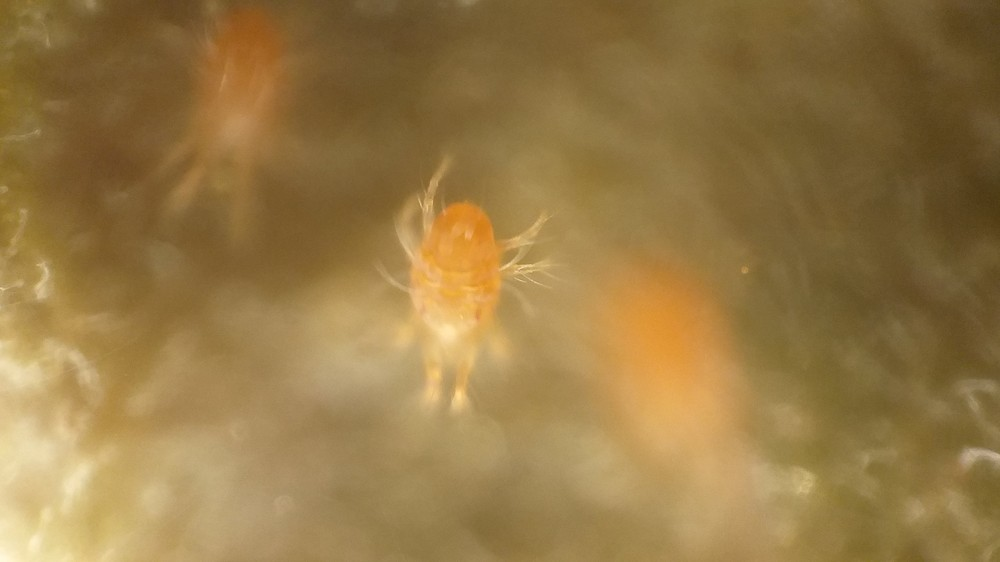Aracnido Rojo: (346, 148, 579, 423)
